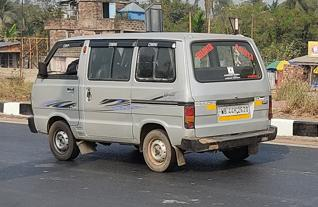Auto: (26, 30, 278, 174)
